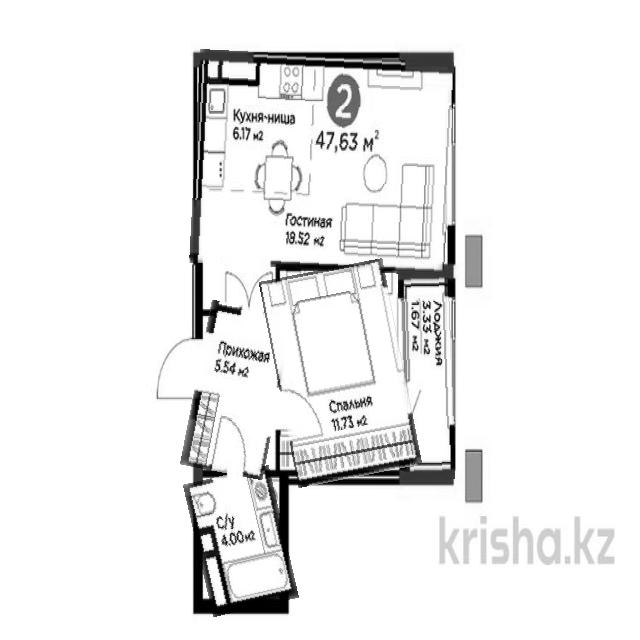balcony: (399, 267, 454, 480)
bathroom: (190, 469, 292, 613)
hallway: (188, 303, 286, 477)
living_room: (268, 263, 413, 483)
studio: (191, 52, 452, 274)
